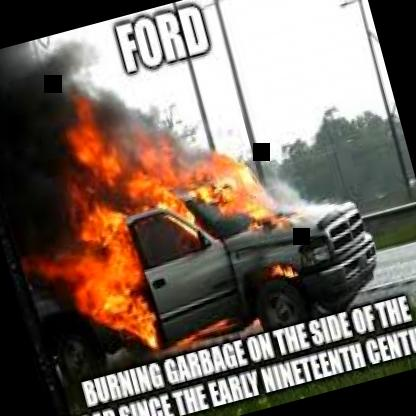fire: (13, 56, 399, 380)
